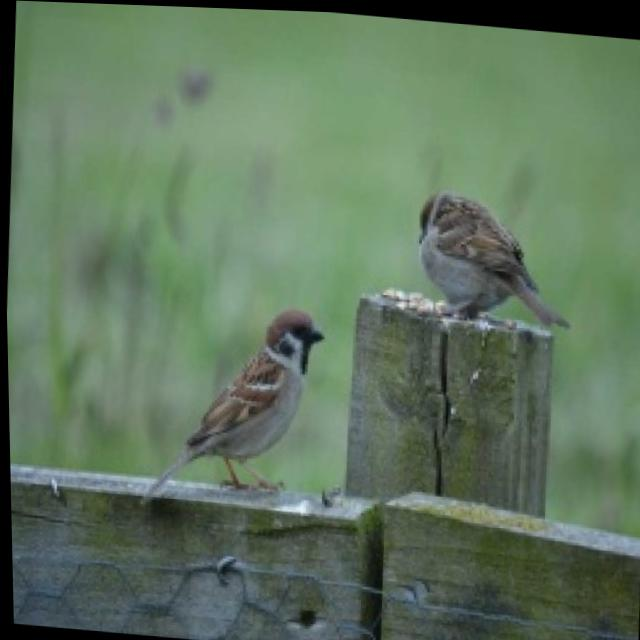sparrow: (142, 294, 333, 513), (410, 188, 579, 336)
